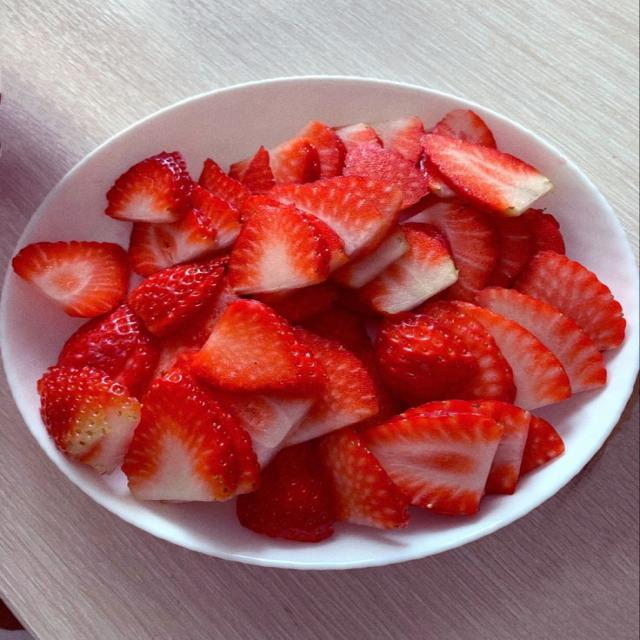strawberry sliced: (123, 370, 239, 500), (364, 414, 502, 514), (476, 288, 606, 393), (454, 302, 571, 410), (192, 300, 323, 393), (406, 400, 531, 494), (514, 252, 626, 350), (38, 366, 140, 472), (286, 328, 378, 444), (271, 177, 402, 257), (423, 134, 552, 215), (417, 301, 515, 402), (237, 443, 334, 541), (375, 314, 479, 405), (58, 303, 158, 397), (407, 202, 499, 301), (228, 206, 330, 294), (13, 241, 129, 317), (320, 428, 408, 528), (360, 228, 458, 315), (213, 390, 314, 468), (128, 260, 223, 336), (128, 208, 217, 276), (106, 152, 192, 222), (344, 144, 428, 208), (476, 401, 531, 494), (332, 228, 409, 288), (254, 282, 339, 323), (487, 215, 534, 287), (190, 184, 240, 251), (303, 307, 371, 356), (298, 210, 349, 272), (298, 121, 346, 178), (199, 159, 251, 209), (520, 416, 564, 475), (372, 116, 424, 165), (430, 110, 496, 148), (270, 137, 319, 184), (230, 146, 275, 194), (523, 209, 565, 254), (420, 155, 456, 198), (335, 123, 382, 151)
